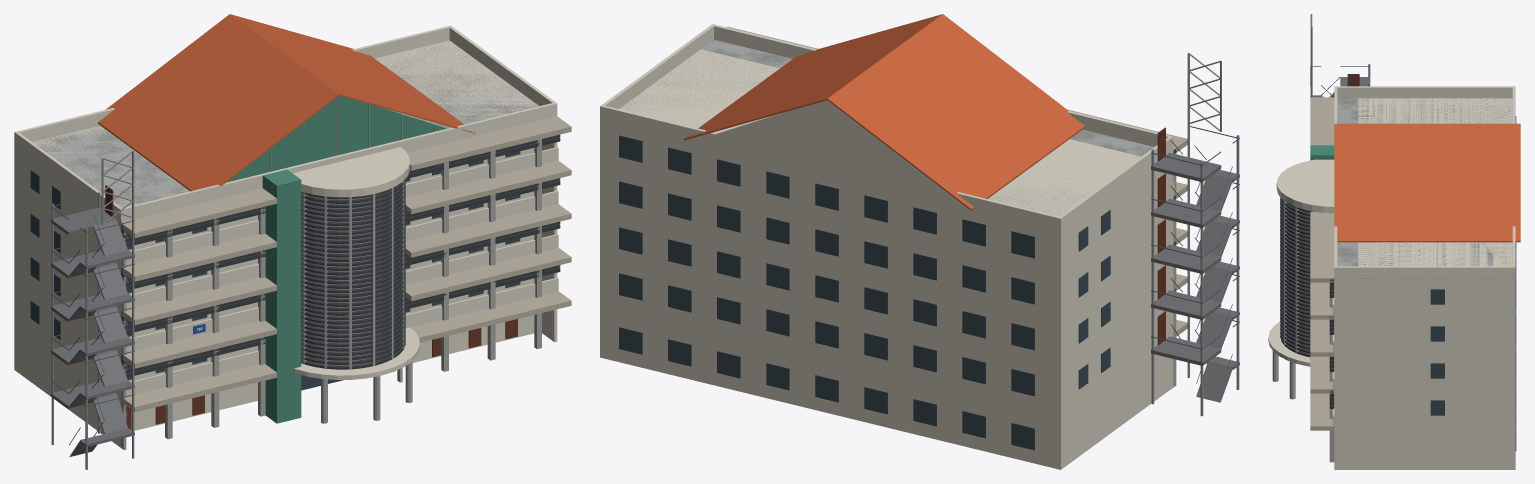
The picture shows the model from 3 angles, left to right: view 1: azimuth 30°, elevation 25°; view 2: azimuth 150°, elevation 25°; view 3: azimuth 270°, elevation 25°; orthographic projection. The views are drawn at different scales.
Parts seen in each view (by area): view 1: TA4; view 2: TA4; view 3: TA4.
Boxes of the visible parts, x1,y1,x2,y2 form: TA4: [14, 14, 571, 469]; TA4: [600, 14, 1239, 469]; TA4: [1268, 14, 1520, 469].
Size of what is drawn, in the model's own units: 39.75 by 24.04 by 21.
Materials: 15 (1 with a texture image).
